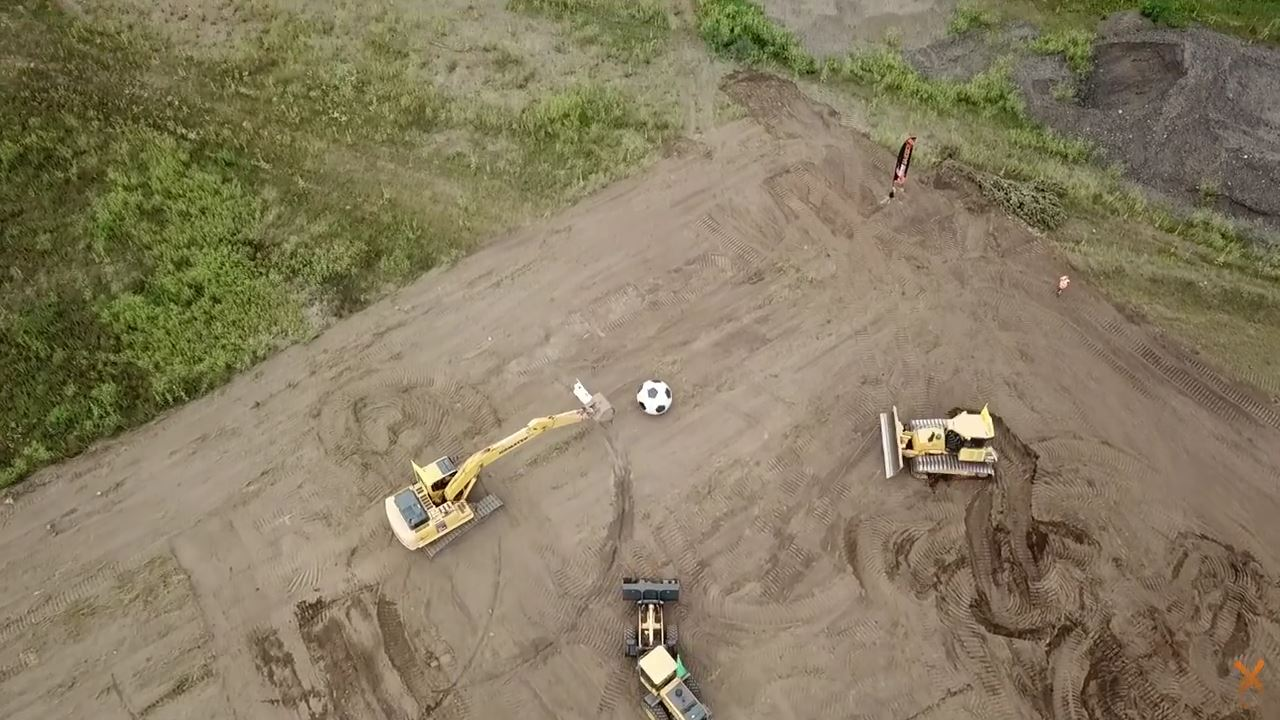con_eq: (388, 394, 613, 559), (617, 580, 714, 720), (873, 401, 999, 486)
